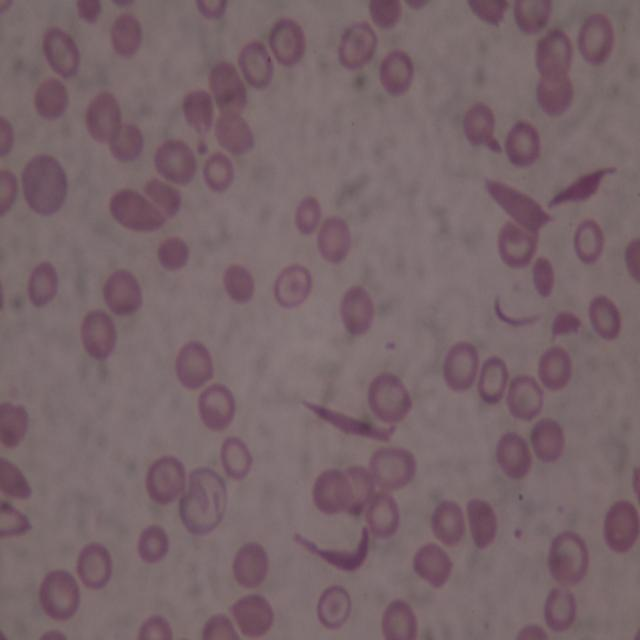Crystal: (0, 456, 33, 500), (0, 506, 33, 540)
Normal: (578, 13, 614, 65), (154, 138, 193, 185), (505, 120, 542, 168), (341, 284, 375, 336), (497, 431, 532, 480), (447, 342, 481, 392), (542, 584, 576, 633), (78, 542, 114, 588), (366, 486, 399, 536), (102, 271, 140, 314), (536, 346, 574, 389), (379, 48, 414, 94), (478, 353, 508, 405), (319, 214, 352, 261), (462, 105, 498, 147), (431, 501, 464, 546), (220, 436, 252, 482), (28, 258, 56, 310), (575, 219, 604, 267), (382, 599, 417, 638), (202, 152, 235, 191), (138, 523, 170, 563), (134, 615, 174, 639)
Others: (180, 468, 228, 532), (110, 187, 168, 232), (212, 102, 257, 159), (22, 156, 65, 212), (546, 531, 588, 586), (368, 373, 412, 425), (40, 567, 81, 622), (312, 466, 354, 516), (207, 63, 248, 114), (227, 592, 274, 636), (602, 499, 639, 553), (42, 27, 80, 79), (536, 67, 574, 119), (498, 224, 542, 268), (536, 28, 573, 79), (176, 340, 215, 388), (504, 375, 545, 420), (232, 542, 272, 588), (368, 448, 417, 485), (414, 543, 452, 590), (239, 40, 274, 90), (199, 382, 235, 430), (86, 93, 120, 143), (80, 311, 114, 361), (529, 417, 566, 462), (33, 75, 70, 118), (223, 259, 257, 305), (467, 495, 497, 546), (586, 296, 621, 339), (183, 90, 215, 136), (348, 462, 375, 516), (107, 123, 145, 161), (513, 0, 554, 34), (465, 0, 511, 30), (146, 177, 181, 215), (111, 13, 144, 53), (1, 401, 28, 449), (156, 235, 188, 272), (366, 0, 404, 30), (531, 257, 557, 299), (296, 194, 320, 236), (200, 612, 236, 640), (547, 311, 582, 339), (0, 167, 18, 216), (624, 237, 640, 284), (75, 2, 104, 26), (512, 623, 550, 640), (0, 111, 15, 154), (194, 2, 225, 20), (34, 627, 68, 640), (405, 0, 428, 11)
Sickle: (299, 396, 398, 444), (292, 526, 371, 572), (544, 163, 620, 210), (485, 179, 555, 230), (495, 294, 541, 327)
Target: (268, 15, 308, 66), (338, 18, 377, 70), (146, 454, 184, 506), (316, 583, 353, 631), (273, 263, 311, 309)
